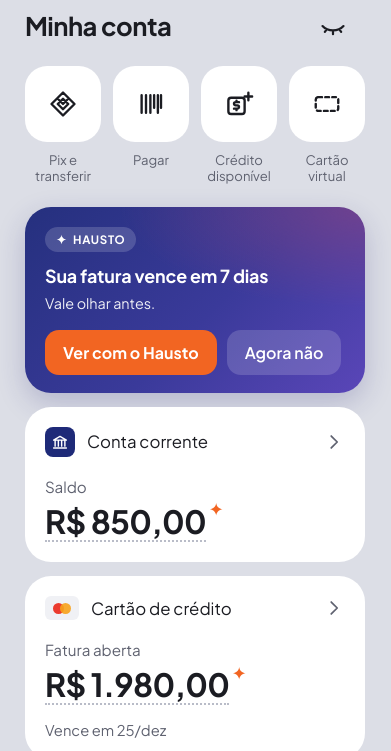
Test: <Inicio> › "Agora não" dispensa e esconde o aviso
This screenshot has width=391, height=751.
Check: the text "HAUSTO" is shown, box [45,227,136,252]
Click the button "Agora não".
click(284, 352)  # box [227,330,341,375]
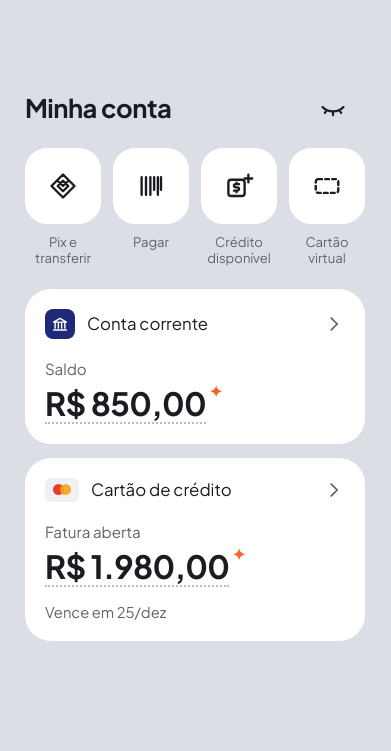
Check: the heading "Sua fatura vence em 7 dias" is gone
